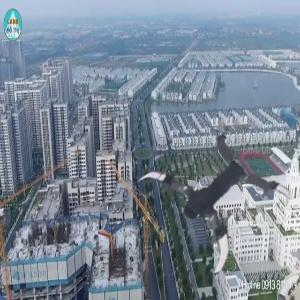drone: (136, 131, 278, 273)
